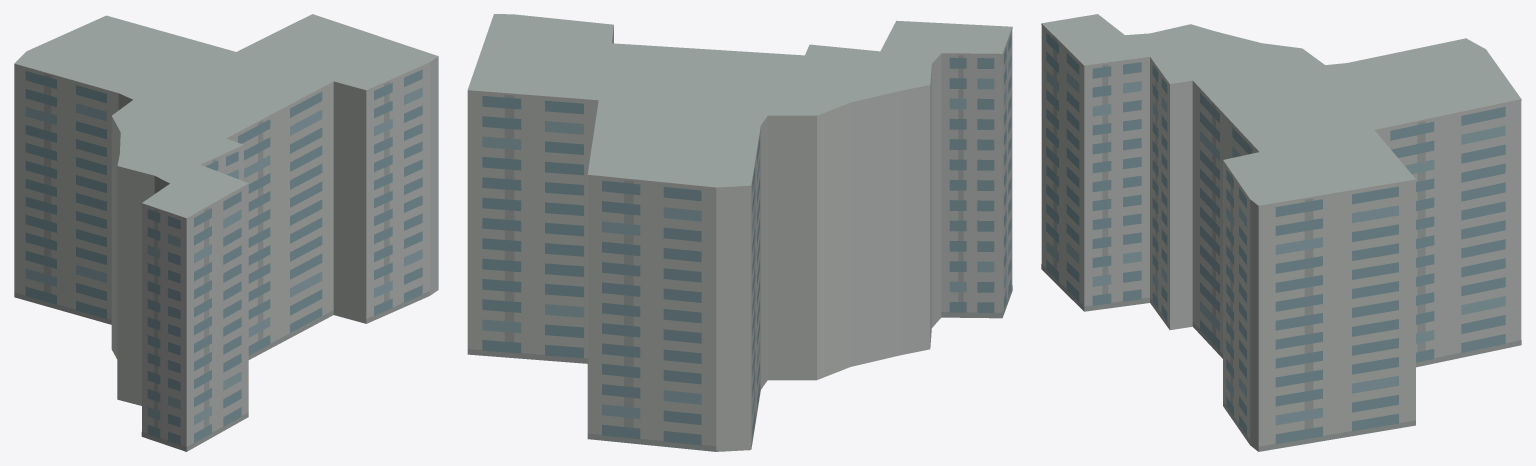
The model's file is residential-7e3bf6ce-ac82-400a-a48c-1460f84780f9.glb.
The picture shows the model from 3 angles, left to right: view 1: azimuth 30°, elevation 25°; view 2: azimuth 150°, elevation 25°; view 3: azimuth 270°, elevation 25°; orthographic projection. The views are drawn at different scales.
Parts seen in each view (by area): view 1: residential-7e3bf6ce-ac82-400a-a48c-1460f84780f9.tmp; view 2: residential-7e3bf6ce-ac82-400a-a48c-1460f84780f9.tmp; view 3: residential-7e3bf6ce-ac82-400a-a48c-1460f84780f9.tmp.
Boxes of the visible parts, bbox=[...] form: residential-7e3bf6ce-ac82-400a-a48c-1460f84780f9.tmp: bbox=[14, 14, 438, 451]; residential-7e3bf6ce-ac82-400a-a48c-1460f84780f9.tmp: bbox=[467, 14, 1012, 451]; residential-7e3bf6ce-ac82-400a-a48c-1460f84780f9.tmp: bbox=[1041, 14, 1521, 451].
Size of the model in its own units: 58.51 by 35 by 61.87.
